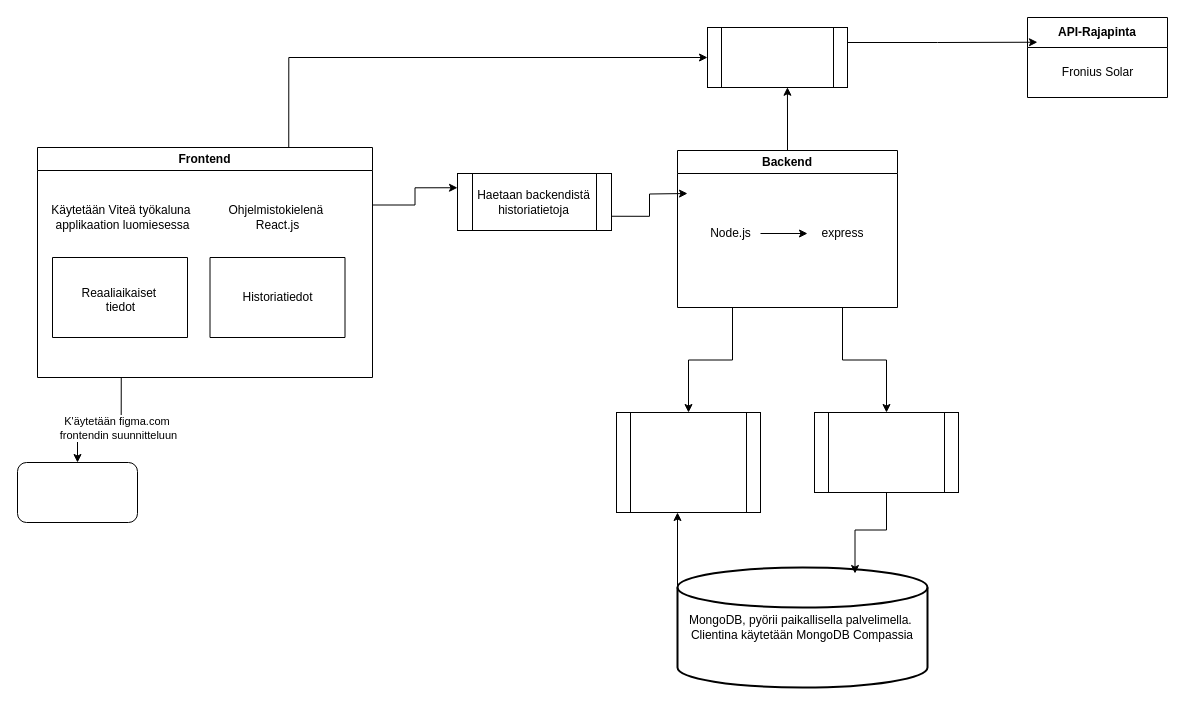
Some shapes in this 1185 by 706 pixel diagram are drawn without their labels. Here are the shapes that lost their labels. From the top down, the centre of each, then its label:
point (777, 57): Haetaan reaaliaikaista dataa Fronius Solarin rapainnoista
point (688, 462): Haetaan tietokannasta päivittäin historiatiedot, joita käsitellään backendissä.
point (886, 452): Tallennetaan tietokantaan päivittäin päivän energia tiedot.
point (77, 492): Figma.com
